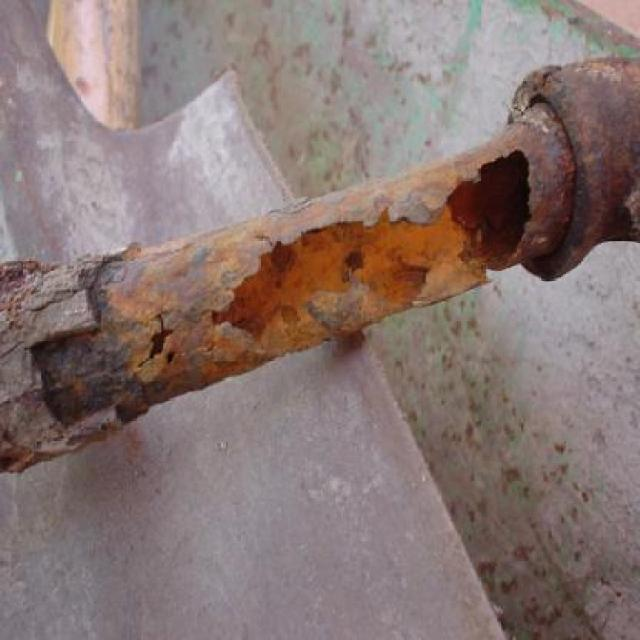corrosion: (3, 57, 640, 480)
